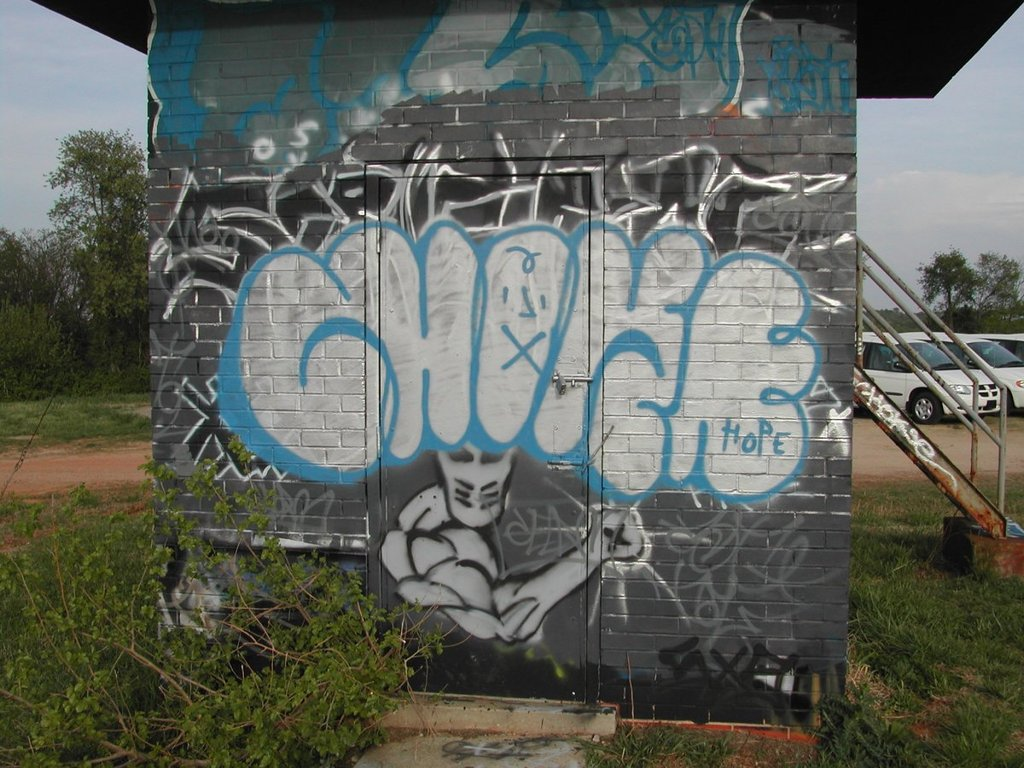Car: (864, 327, 1012, 422), (908, 324, 1023, 419)
